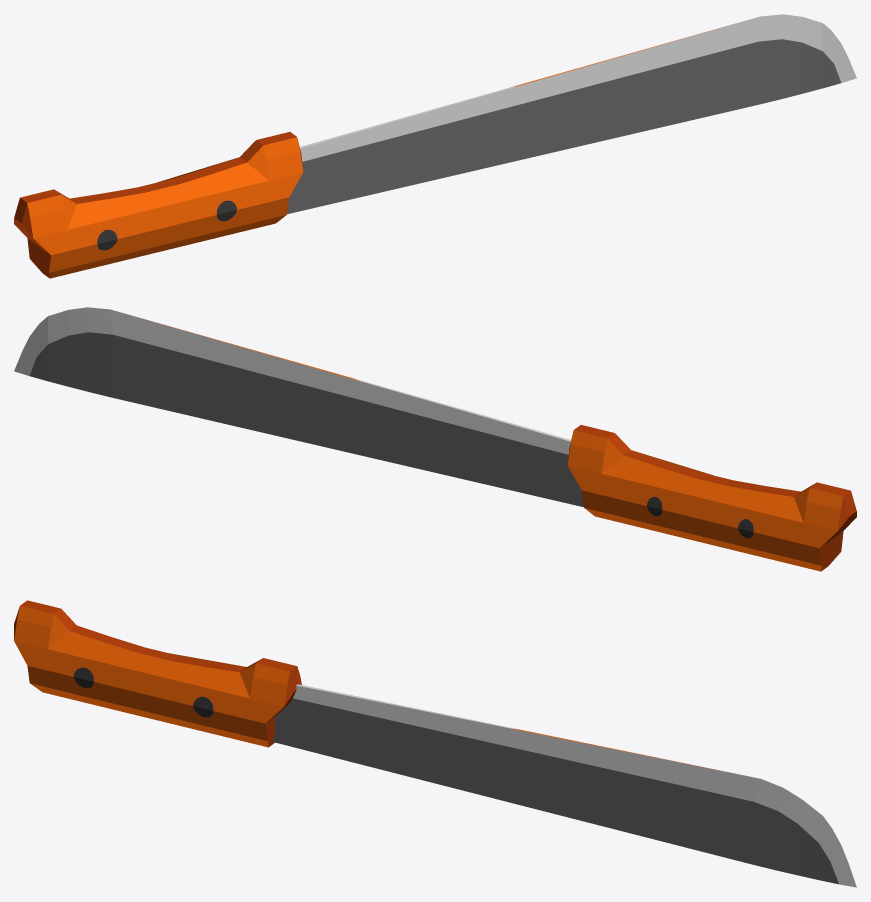
File: BushMachete.fbx
3 views of the same model, one above another, from view 1: azimuth 30°, elevation 25°; view 2: azimuth 150°, elevation 25°; view 3: azimuth 330°, elevation 25° (orthographic).
Visible parts, largest first — view 1: ZomboidBushMachete; view 2: ZomboidBushMachete; view 3: ZomboidBushMachete.
Boxes of the visible parts, <box> form: ZomboidBushMachete: <box>14,14,856,278</box>; ZomboidBushMachete: <box>14,307,856,571</box>; ZomboidBushMachete: <box>14,600,856,887</box>.
Bounding box in the file's own units: 0.387 × 0.0376 × 0.019.
